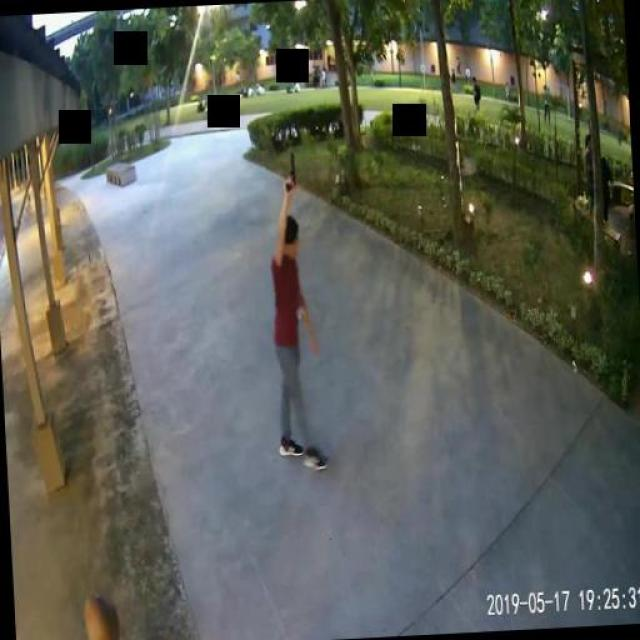gun: (280, 150, 298, 190)
